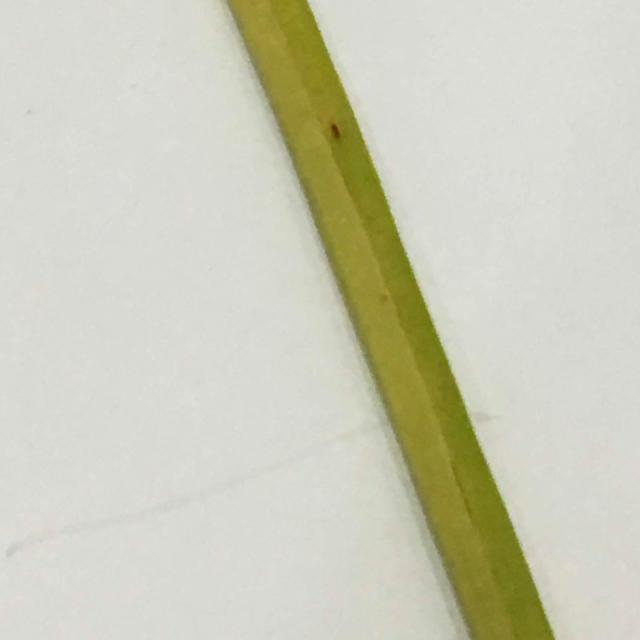Brown spot: (318, 118, 346, 150)
